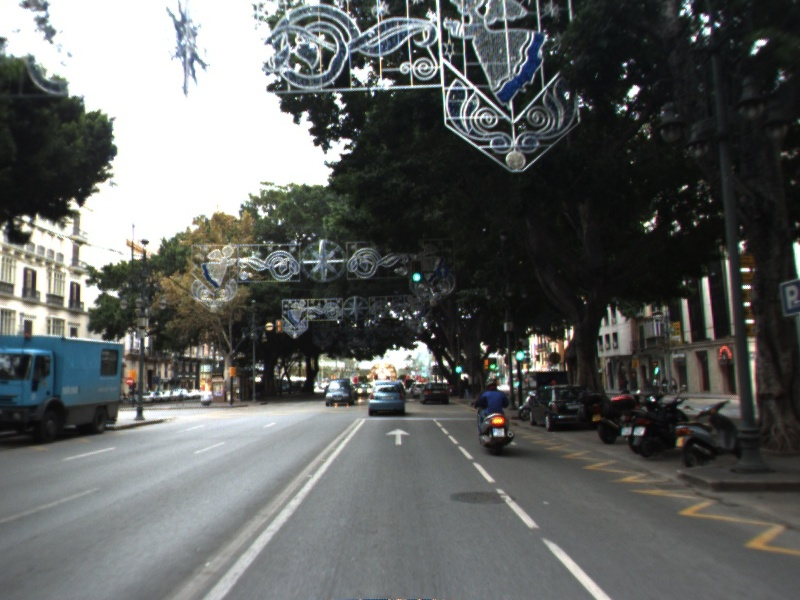STRAIGHT: (384, 426, 412, 447)
